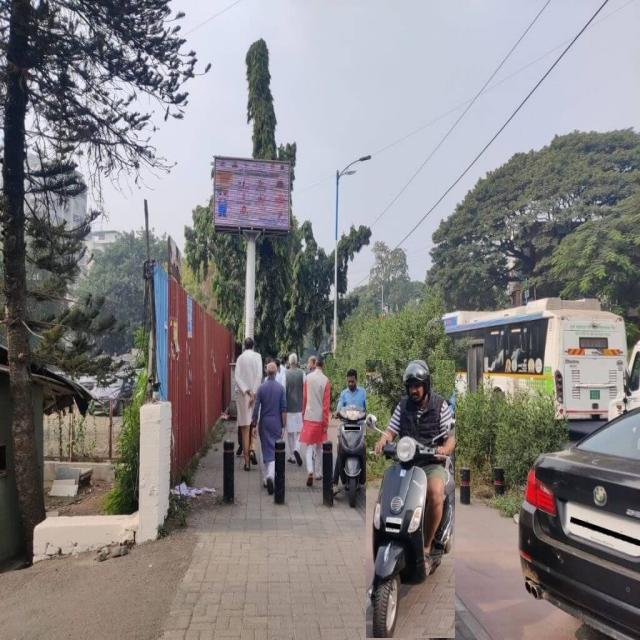bus: (445, 298, 628, 419)
motorcycle: (366, 360, 455, 638), (336, 368, 370, 506)
